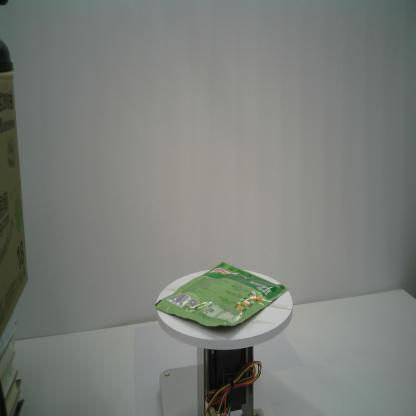Seasoner: (152, 262, 288, 328)
